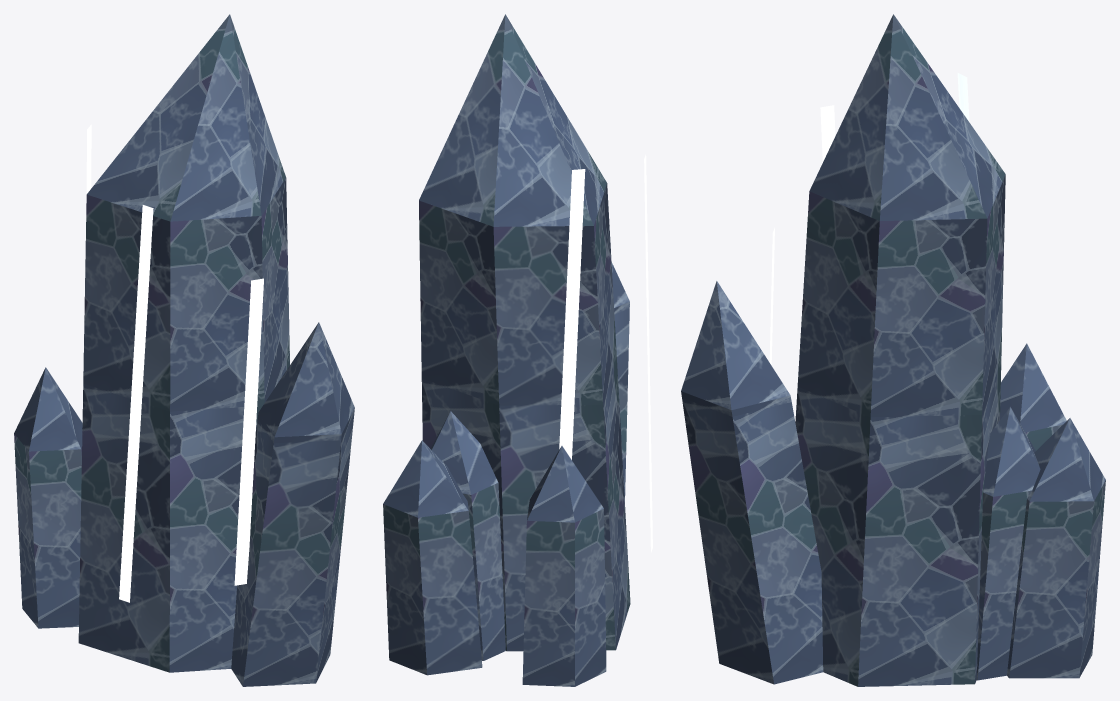
File: Oracle_Crystal_Slab_1.gltf
3 renders of one model, left to right at view 1: azimuth 30°, elevation 25°; view 2: azimuth 150°, elevation 25°; view 3: azimuth 270°, elevation 25°, orthographic. The views are drawn at different scales.
Parts seen in each view (by area): view 1: Oracle_Crystal_Slab_1; view 2: Oracle_Crystal_Slab_1; view 3: Oracle_Crystal_Slab_1.
Boxes of the visible parts, x1,y1,x2,y2 form: Oracle_Crystal_Slab_1: (14, 14, 354, 686); Oracle_Crystal_Slab_1: (383, 14, 652, 686); Oracle_Crystal_Slab_1: (681, 14, 1105, 686).
Bounding box in the file's own units: 10 × 28.98 × 17.24.
Materials: 2 (2 with a texture image).
